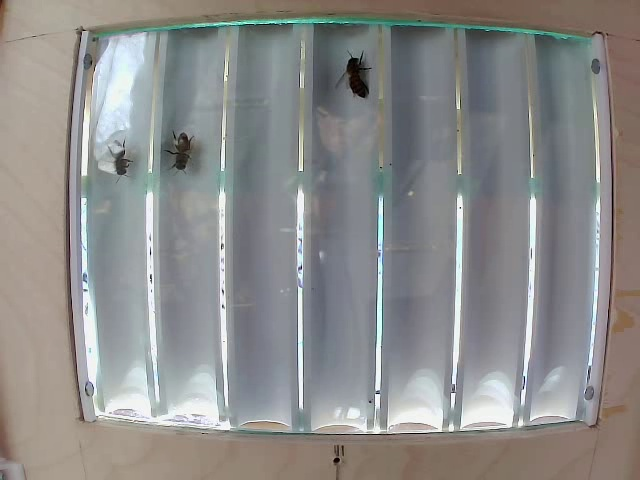bee: (159, 121, 214, 177), (325, 50, 363, 94), (108, 133, 138, 187)
